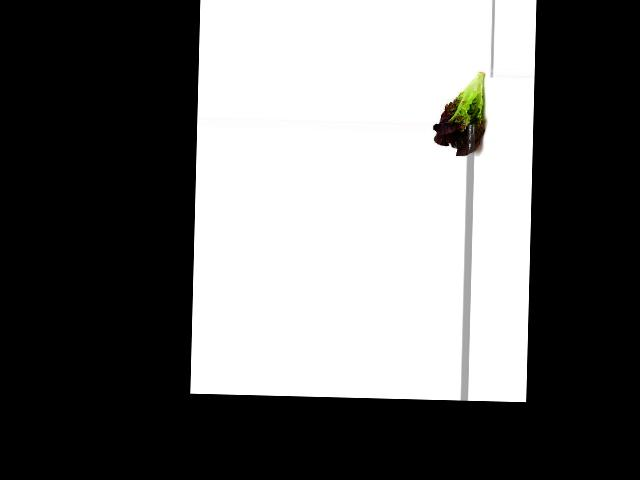lettuce: (432, 67, 490, 158)
